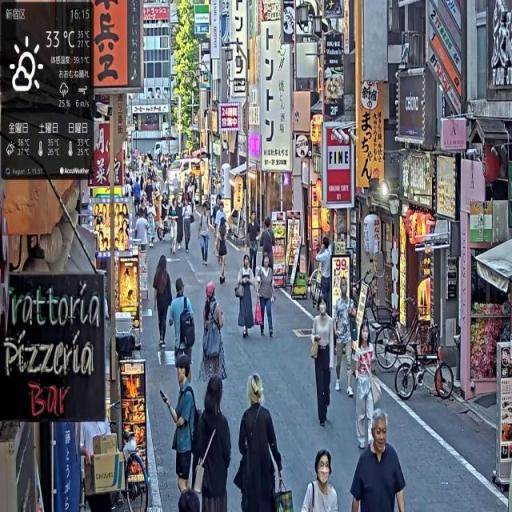person: (233, 374, 287, 512), (160, 354, 201, 500), (349, 411, 408, 512), (190, 374, 232, 512), (310, 295, 336, 429), (353, 324, 379, 452), (334, 280, 359, 400), (168, 278, 197, 380), (202, 280, 227, 396), (303, 448, 341, 512), (234, 252, 259, 341), (153, 255, 175, 352), (256, 251, 277, 341), (247, 210, 261, 283), (216, 221, 230, 287), (199, 204, 213, 269), (182, 199, 194, 254)
